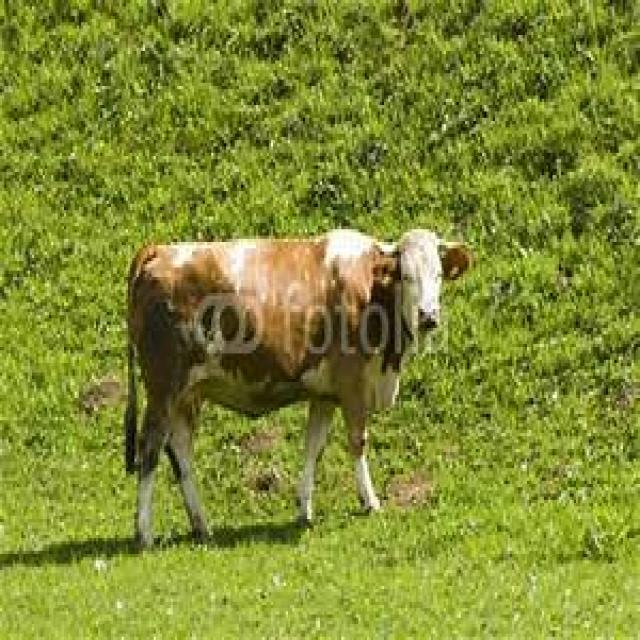cow: (125, 229, 472, 544)
